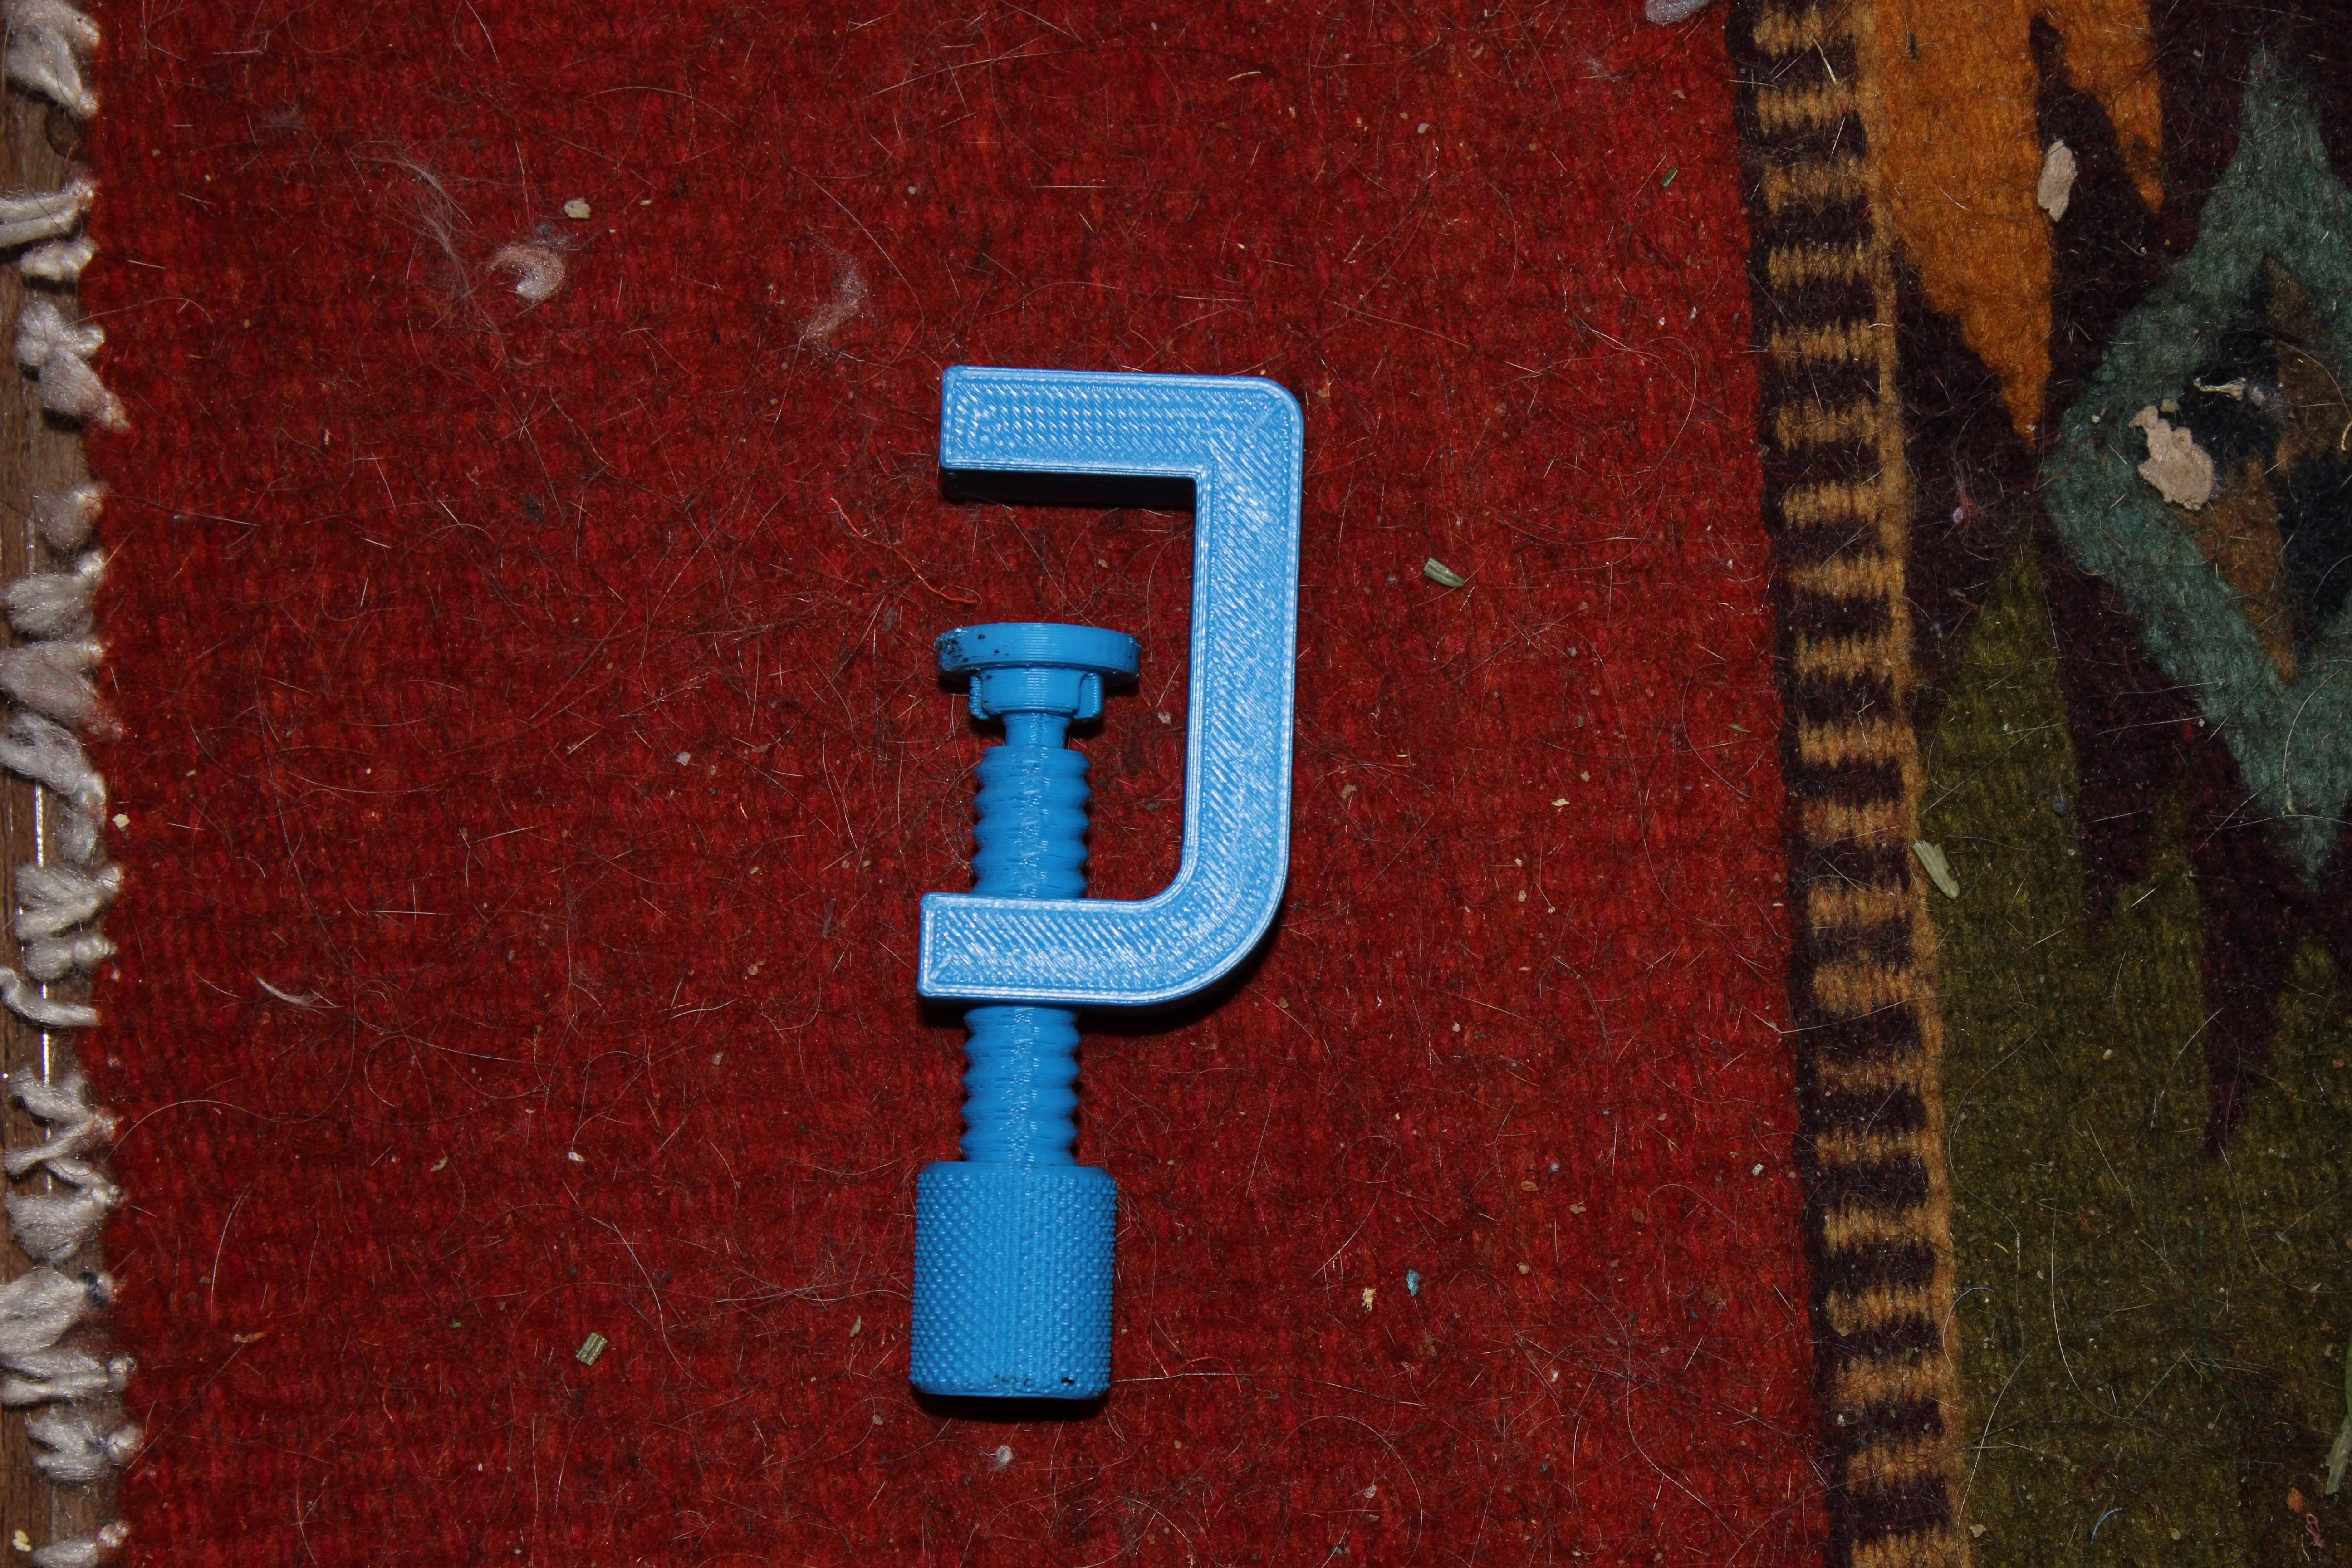gClamp: (824, 327, 1370, 1438)
